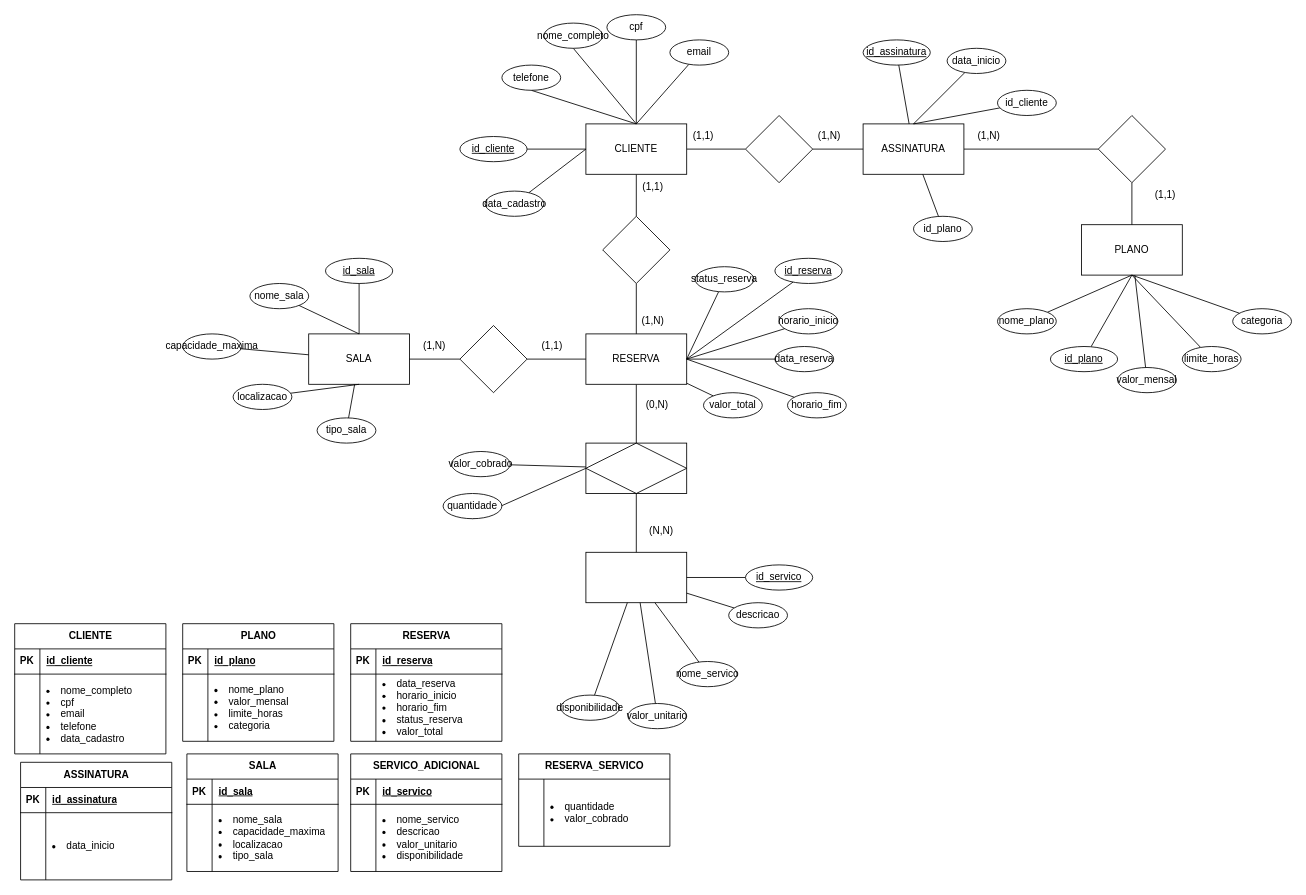
Image size: 1306x895. Some labels were removed from this diagram. Each missing label, with the centre of its shape:
"CONTRATAR" belongs at (x=1131, y=149).
"POSSUIR" belongs at (x=779, y=149).
"REALIZAR" belongs at (x=636, y=249).
"RESERVA SERVIÇO" belongs at (x=636, y=468).
"SERVIÇO ADICIONAL" belongs at (x=636, y=577).
"UTILIZA" belongs at (x=493, y=359).
